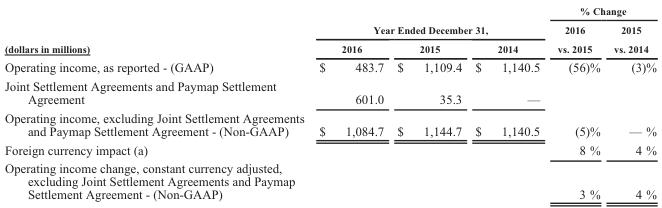table: (3, 3, 656, 201)
table column: (3, 3, 311, 201), (467, 3, 548, 201), (311, 3, 389, 201), (389, 3, 467, 201), (548, 3, 606, 201), (606, 3, 656, 201)
table column header: (3, 3, 656, 39)
table row: (3, 158, 656, 201), (3, 76, 656, 108), (3, 108, 656, 140), (3, 19, 656, 39), (3, 56, 656, 76), (3, 140, 656, 158), (3, 39, 656, 56), (3, 3, 656, 19)
table spanning cell: (311, 3, 548, 39), (548, 3, 656, 19)
